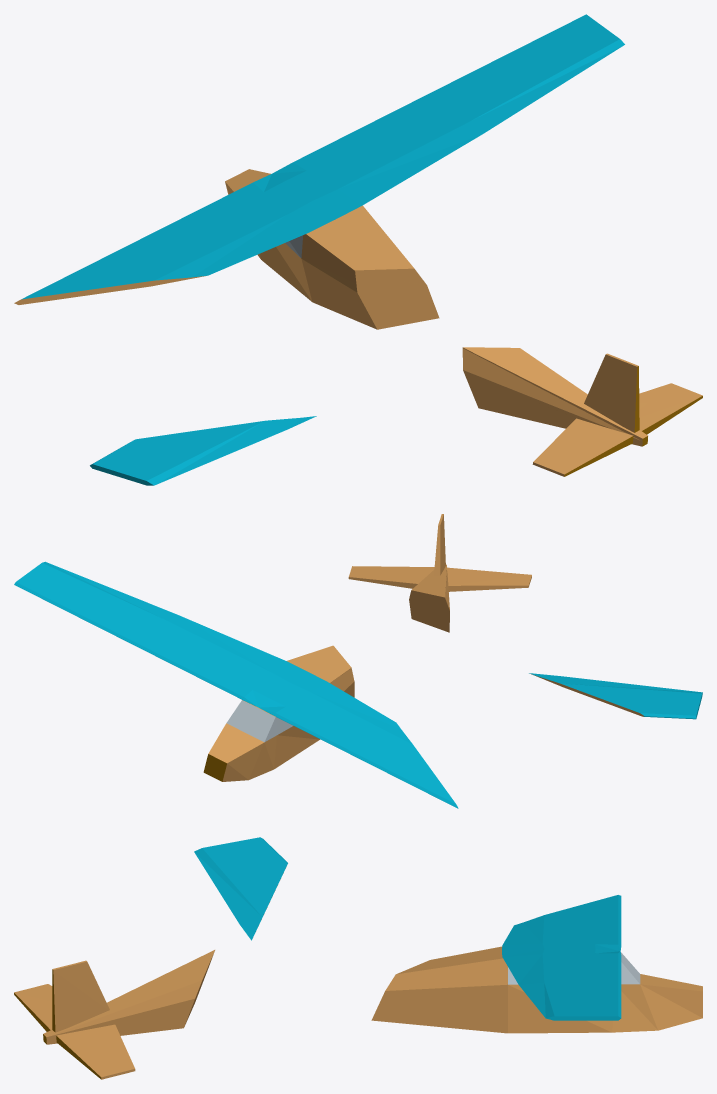
The model's file is light_aircraft_02.gltf.
3 views of the same model, one above another, from view 1: azimuth 30°, elevation 25°; view 2: azimuth 150°, elevation 25°; view 3: azimuth 270°, elevation 25° (orthographic). The views are drawn at different scales.
Size of the model in its own units: 31.34 by 7.16 by 28.92.
